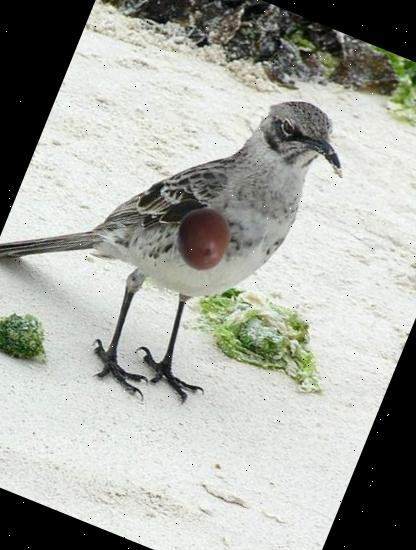Potato: (161, 196, 246, 282)
